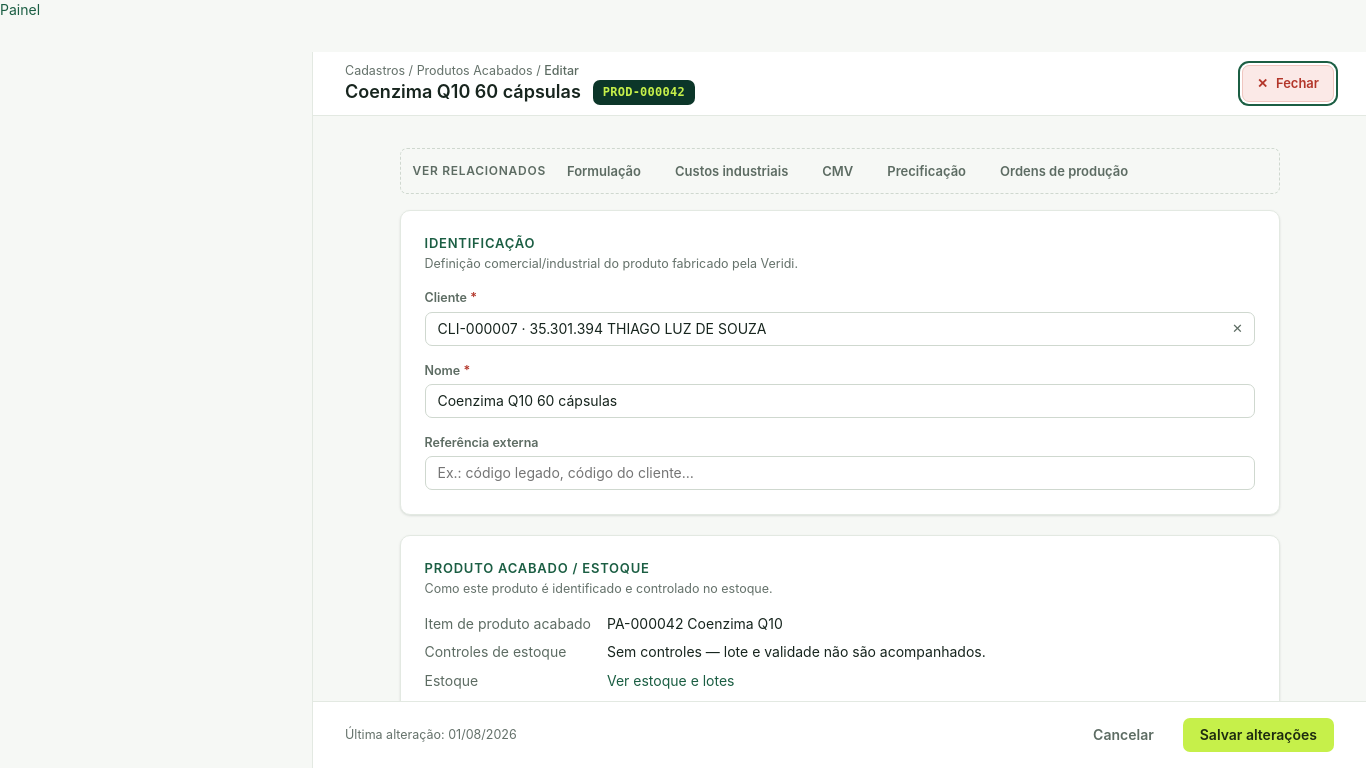
Produto — modal de edição › carregado e não tocado, sai sem perguntar
The image size is (1366, 768).
Expected: the heading "Coenzima Q10 60 cápsulas" is shown, x1=345 y1=81 x2=581 y2=104
Click the link "Painel".
click(20, 10)  # box x1=0 y1=1 x2=40 y2=18
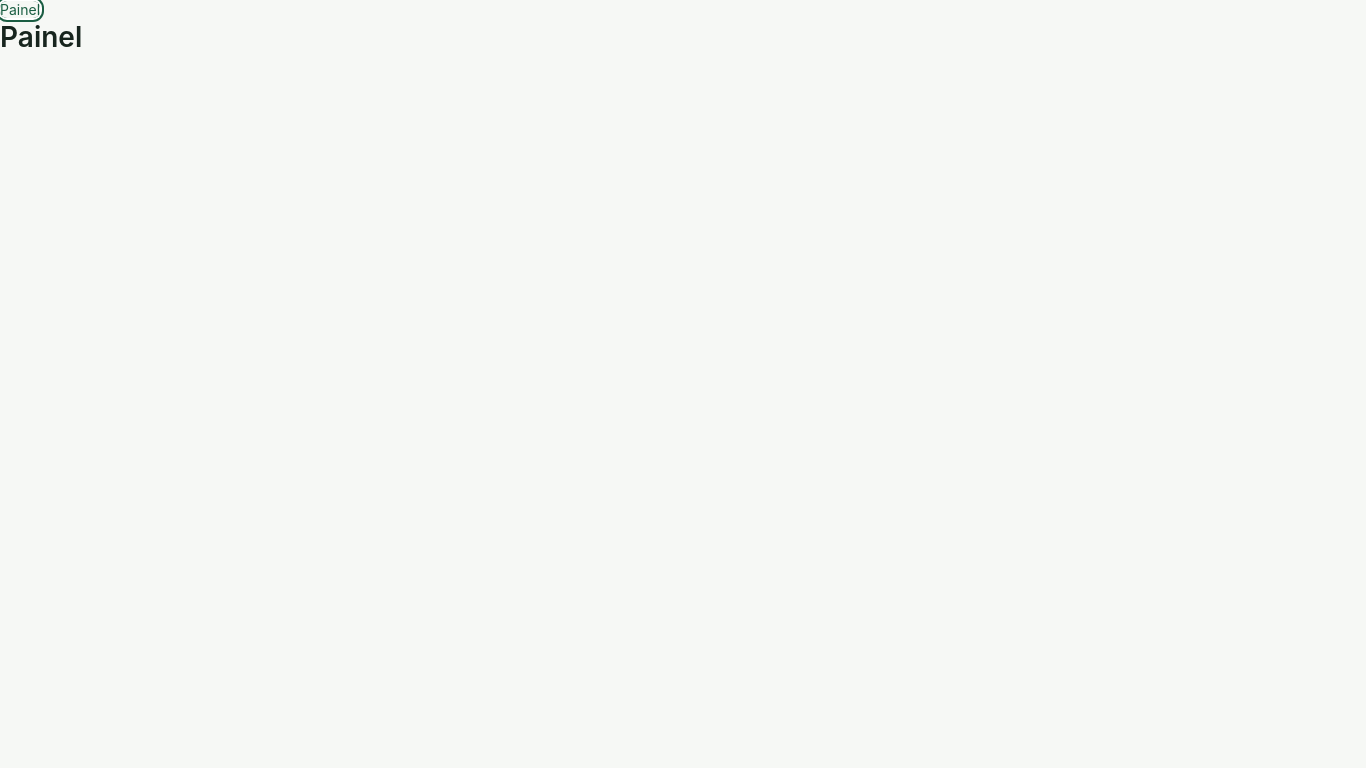
Expected: the heading "Painel" is shown, x1=0 y1=20 x2=82 y2=54
Expected: the dialog is gone
